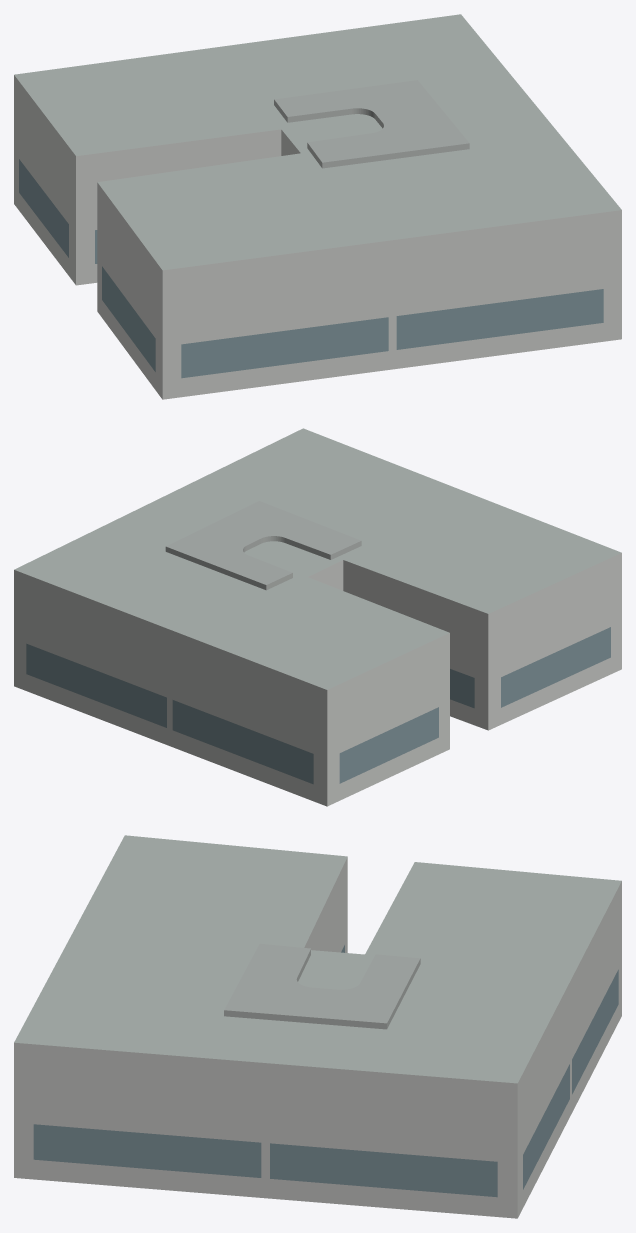
The model's file is named-apt-78301499-c8be-4434-9f92-286f7cec6772.glb.
3 views of the same model, one above another, from view 1: azimuth 30°, elevation 25°; view 2: azimuth 150°, elevation 25°; view 3: azimuth 270°, elevation 25° (orthographic). The views are drawn at different scales.
Parts seen in each view (by area): view 1: named-apt-78301499-c8be-4434-9f92-286f7cec6772; view 2: named-apt-78301499-c8be-4434-9f92-286f7cec6772; view 3: named-apt-78301499-c8be-4434-9f92-286f7cec6772.
Part boxes in pixels (left/top/right/bottom): named-apt-78301499-c8be-4434-9f92-286f7cec6772: left=14, top=14, right=621, bottom=399; named-apt-78301499-c8be-4434-9f92-286f7cec6772: left=14, top=428, right=621, bottom=806; named-apt-78301499-c8be-4434-9f92-286f7cec6772: left=14, top=835, right=621, bottom=1218.
Bounding box in the file's own units: 24.01 × 6.37 × 24.86.
